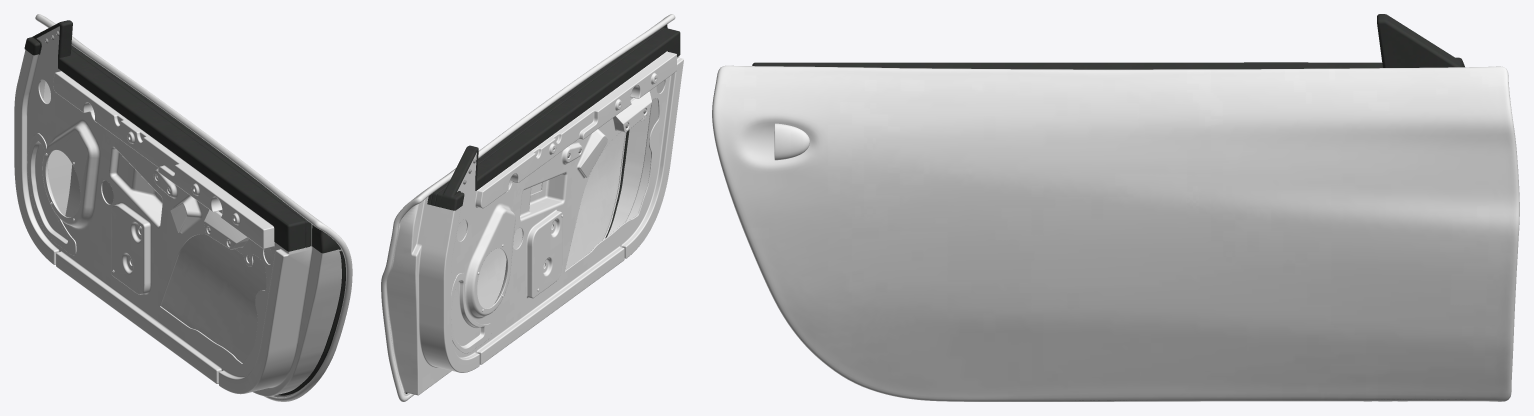
File: bodyPart_door_front_b01.glb
The picture shows the model from 3 angles, left to right: view 1: azimuth 30°, elevation 25°; view 2: azimuth 150°, elevation 25°; view 3: azimuth 270°, elevation 25°; orthographic projection. The views are drawn at different scales.
Visible parts, largest first — view 1: body_01_mesh_00; view 2: body_01_mesh_00; view 3: body_01_mesh_00.
Part boxes in pixels (bbox=[...]): body_01_mesh_00: bbox=[14, 14, 352, 401]; body_01_mesh_00: bbox=[381, 14, 683, 401]; body_01_mesh_00: bbox=[712, 14, 1519, 401].
Bounding box in the file's own units: 0.2033 × 0.6953 × 1.41.
Materials: 3 (3 with a texture image).
